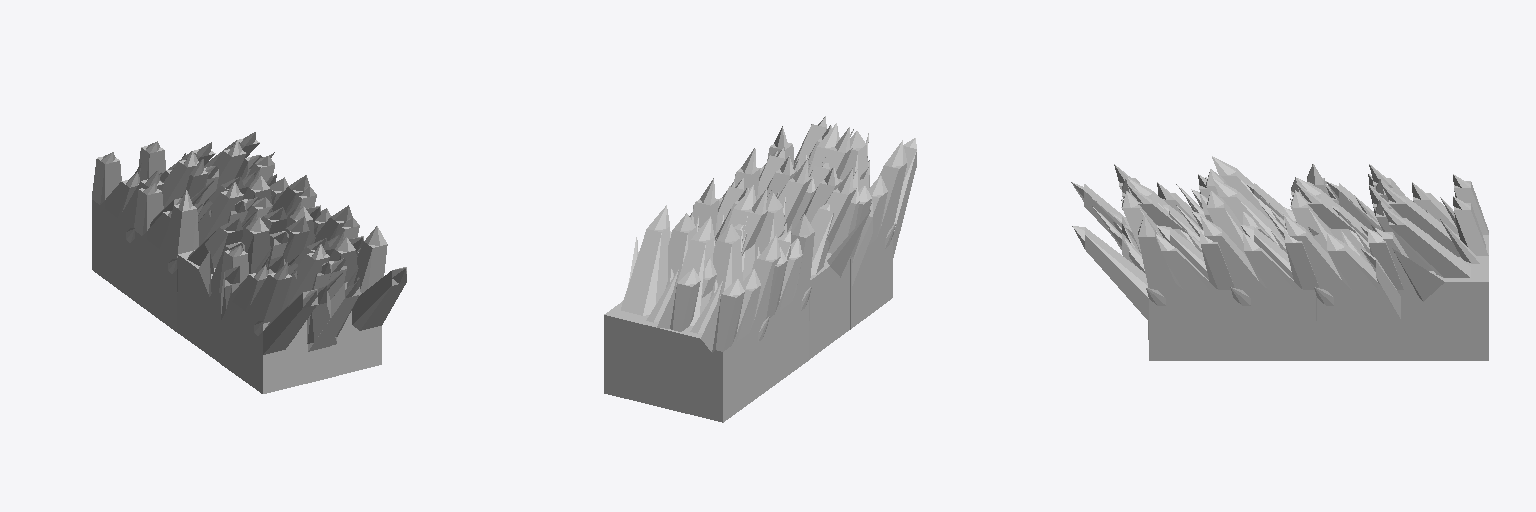
Rendered from rockeffect.obj.
The picture shows the model from 3 angles: view 1: azimuth 30°, elevation 25°; view 2: azimuth 150°, elevation 25°; view 3: azimuth 270°, elevation 25°; orthographic projection.
Visible parts, largest first — view 1: 立方体.010, 立方体.015, 立方体.008_立方体, 立方体.011, 立方体.014, 立方体.012, 立方体.009_立方体.002, 立方体.013; view 2: 立方体.014, 立方体.012, 立方体.015, 立方体.010, 立方体.011, 立方体.009_立方体.002, 立方体.013, 立方体.008_立方体; view 3: 立方体.008_立方体, 立方体.012, 立方体.009_立方体.002, 立方体.013, 立方体.014, 立方体.010, 立方体.011, 立方体.015.
Part boxes in pixels (x1,y1,x2,y2): 立方体.010: (219, 235, 359, 393); 立方体.015: (134, 173, 271, 331); 立方体.008_立方体: (289, 217, 406, 375); 立方体.011: (177, 197, 309, 361); 立方体.014: (92, 142, 218, 300); 立方体.012: (138, 132, 276, 209); 立方体.009_立方体.002: (261, 186, 363, 273); 立方体.013: (206, 156, 320, 222); 立方体.014: (648, 216, 790, 422); 立方体.012: (604, 205, 746, 411); 立方体.015: (722, 185, 833, 390); 立方体.010: (806, 123, 916, 329); 立方体.011: (776, 158, 872, 359); 立方体.009_立方体.002: (693, 148, 815, 236); 立方体.013: (671, 178, 786, 255); 立方体.008_立方体: (735, 116, 869, 199); 立方体.008_立方体: (1072, 178, 1235, 360); 立方体.012: (1332, 186, 1488, 360); 立方体.009_立方体.002: (1157, 178, 1318, 360); 立方体.013: (1241, 178, 1403, 360); 立方体.014: (1326, 164, 1488, 259); 立方体.010: (1071, 164, 1209, 264); 立方体.011: (1163, 156, 1296, 241); 立方体.015: (1246, 164, 1378, 239).
Bounding box in the file's own units: 3.99 × 3.85 × 9.64.